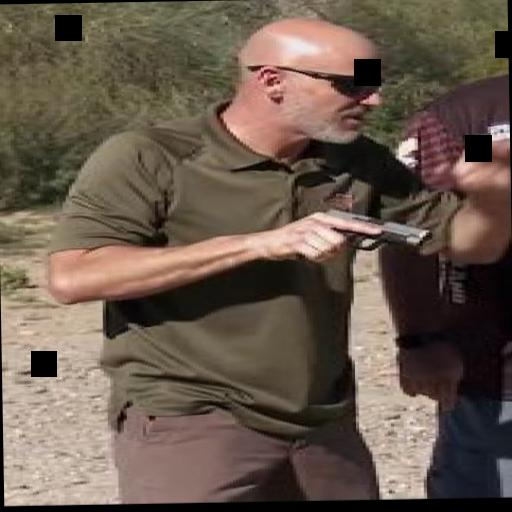Handgun: (289, 206, 426, 262)
